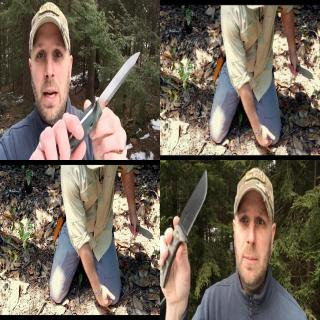knife: (72, 49, 142, 143), (159, 171, 211, 289), (288, 58, 314, 82), (128, 218, 154, 242)
